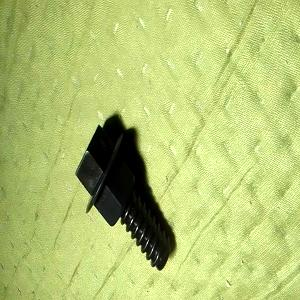parafuso: (76, 125, 172, 274)
